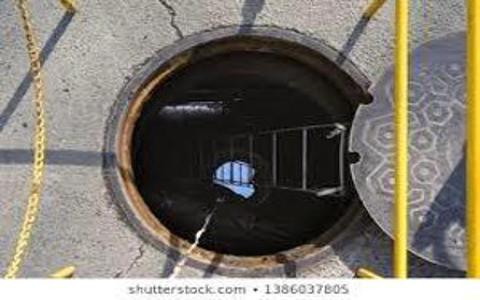open manhole: (93, 20, 381, 276)
